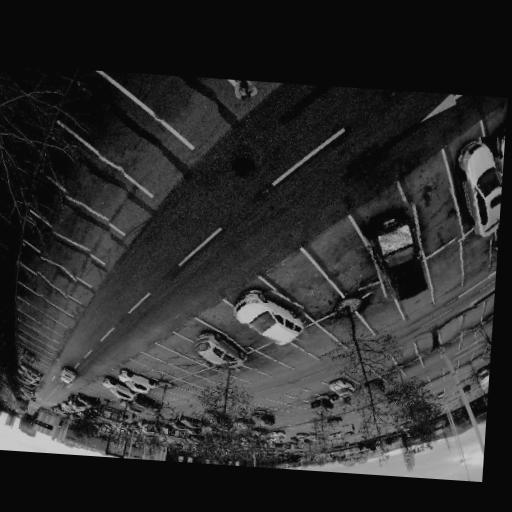busy: (362, 196, 430, 301), (448, 135, 505, 244), (230, 285, 309, 349), (190, 328, 250, 371), (118, 368, 158, 392), (99, 378, 137, 399), (201, 409, 233, 429), (132, 393, 163, 412), (329, 376, 357, 396), (18, 363, 45, 381), (362, 380, 387, 399), (253, 410, 280, 426), (74, 393, 101, 409), (310, 396, 333, 412), (60, 367, 80, 385), (327, 415, 343, 427)
free: (96, 119, 164, 166), (150, 77, 220, 122), (62, 164, 128, 207), (50, 207, 112, 248), (324, 247, 375, 284), (413, 187, 456, 228), (40, 240, 92, 270), (400, 281, 438, 316), (35, 263, 78, 291), (290, 278, 332, 305), (360, 303, 399, 331), (429, 251, 466, 280), (462, 238, 495, 268), (413, 327, 439, 359), (460, 303, 484, 336), (437, 316, 464, 345), (392, 342, 417, 371), (227, 321, 259, 341), (330, 319, 360, 340), (304, 334, 335, 354), (40, 286, 69, 305), (275, 346, 302, 362), (252, 357, 275, 372), (146, 364, 169, 378), (178, 342, 200, 356), (236, 368, 258, 380), (37, 303, 57, 316), (208, 371, 229, 383), (154, 362, 175, 373), (311, 382, 330, 394), (297, 390, 314, 400), (282, 395, 300, 404), (33, 322, 46, 334), (169, 356, 187, 364), (36, 314, 48, 325), (195, 379, 206, 390), (31, 331, 42, 339)
